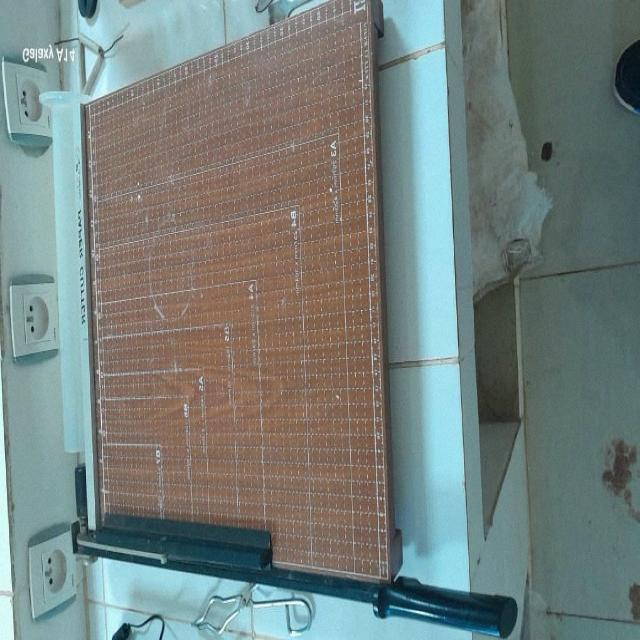TLC Cutter: (66, 0, 532, 636)
